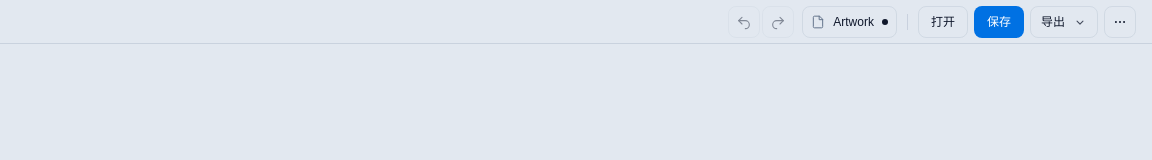
Test: ProjectWorkspace sharing › explains why sharing is unavailable for {"imageFile":null}
The width and height of the screenshot is (1152, 160).
Later steps or results of the test are not shown.
Click the button "导出" at [1064, 22], box left=1030, top=6, right=1098, bottom=38
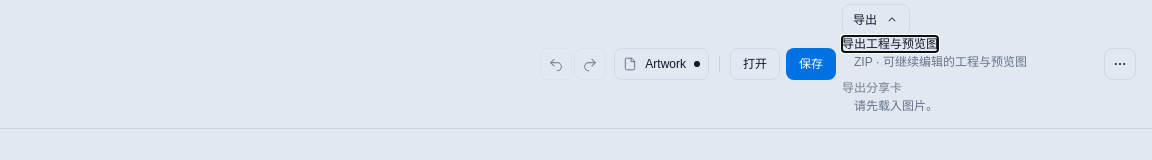
Expected: the menu item "导出分享卡" is disabled, left=842, top=80, right=902, bottom=96
